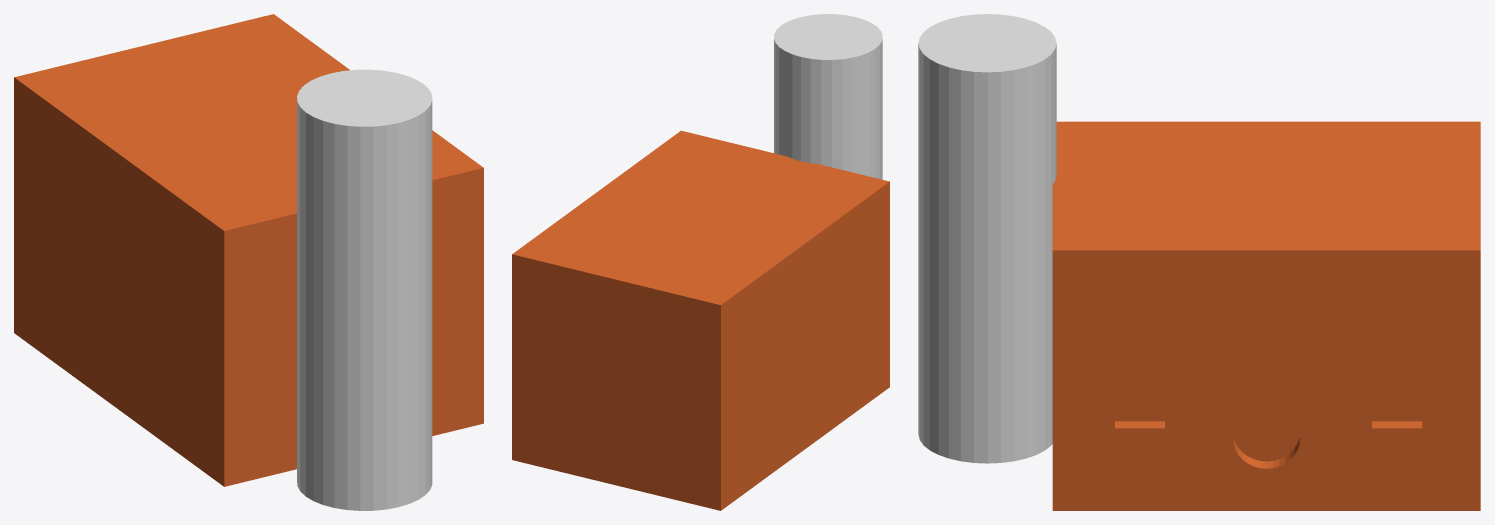
Rendered from Object3D-website.gltf.
The picture shows the model from 3 angles, left to right: view 1: azimuth 30°, elevation 25°; view 2: azimuth 150°, elevation 25°; view 3: azimuth 270°, elevation 25°; orthographic projection. The views are drawn at different scales.
Parts seen in each view (by area): view 1: Cube, Cylinder; view 2: Cube, Cylinder; view 3: Cube, Cylinder.
Boxes of the visible parts, bbox=[...] form: Cube: bbox=[14, 14, 483, 486]; Cylinder: bbox=[297, 69, 432, 510]; Cube: bbox=[512, 130, 889, 510]; Cylinder: bbox=[774, 14, 882, 179]; Cube: bbox=[1052, 121, 1480, 510]; Cylinder: bbox=[918, 14, 1056, 463].
Size of the model in its own units: 1.39 by 1.98 by 2.56.
